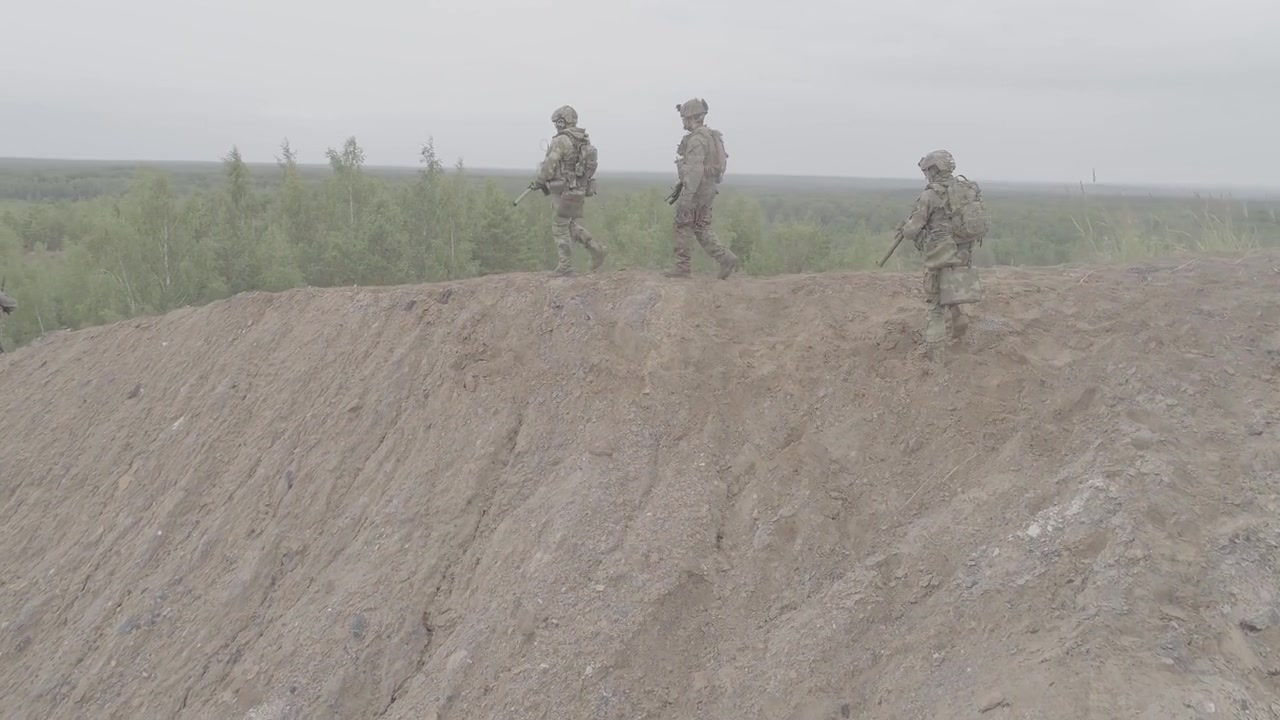person: (848, 157, 997, 347), (666, 99, 743, 276), (547, 101, 622, 268)
